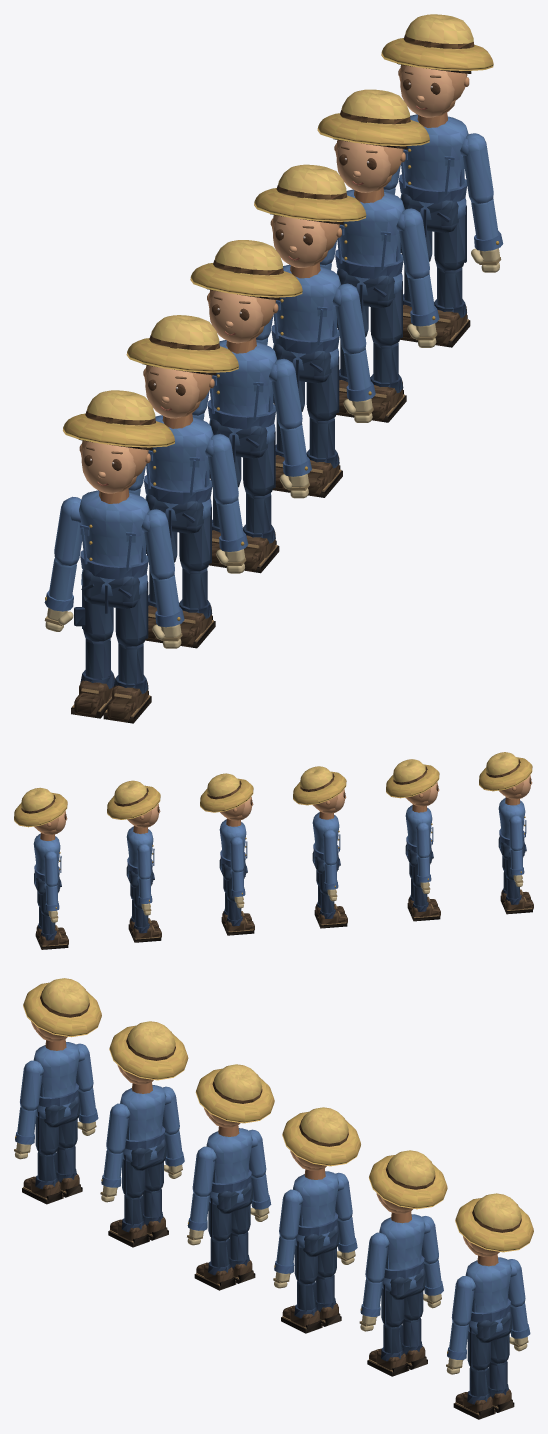
The model's file is ba-idle-side-after.glb.
3 renders of one model, top to bottom at view 1: azimuth 30°, elevation 25°; view 2: azimuth 150°, elevation 25°; view 3: azimuth 270°, elevation 25°, orthographic. The views are drawn at different scales.
Visible parts, largest first — view 1: denimJacketTorso (×6), strawHat (×6), head (×6), leftShin (×6), leftUpperArm (×6), leftThigh (×6), trouserHips (×6), leftLowerArm (×6), rightShin, rightUpperArm, rightThigh, rightLowerArm; view 2: strawHat (×6), denimJacketTorso (×6), rightShin (×6), rightUpperArm (×6), head (×6), rightLowerArm (×6); view 3: strawHat (×6), denimJacketTorso (×6), leftShin (×6), rightShin (×6), leftUpperArm (×6), leftThigh (×6), trouserHips (×6), rightUpperArm (×6), leftLowerArm (×6), rightLowerArm (×6).
Boxes of the visible parts, bbox=[...] form: denimJacketTorso (×6): bbox=[79, 112, 468, 595]; strawHat (×6): bbox=[63, 14, 493, 447]; head (×6): bbox=[79, 63, 471, 493]; leftShin (×6): bbox=[103, 267, 470, 723]; leftUpperArm (×6): bbox=[141, 133, 493, 579]; leftThigh (×6): bbox=[115, 205, 466, 646]; trouserHips (×6): bbox=[81, 193, 458, 613]; leftLowerArm (×6): bbox=[152, 198, 503, 627]; rightShin: bbox=[71, 638, 114, 718]; rightUpperArm: bbox=[54, 496, 82, 565]; rightThigh: bbox=[74, 586, 113, 641]; rightLowerArm: bbox=[44, 558, 76, 611]; strawHat (×6): bbox=[14, 752, 532, 827]; denimJacketTorso (×6): bbox=[33, 797, 526, 890]; rightShin (×6): bbox=[38, 878, 533, 949]; rightUpperArm (×6): bbox=[44, 815, 523, 886]; head (×6): bbox=[34, 775, 532, 835]; rightLowerArm (×6): bbox=[45, 849, 524, 911]; strawHat (×6): bbox=[23, 978, 533, 1252]; denimJacketTorso (×6): bbox=[33, 1039, 511, 1334]; leftShin (×6): bbox=[22, 1152, 495, 1419]; rightShin (×6): bbox=[56, 1145, 514, 1412]; leftUpperArm (×6): bbox=[20, 1060, 475, 1325]; leftThigh (×6): bbox=[35, 1111, 490, 1370]; trouserHips (×6): bbox=[44, 1096, 511, 1342]; rightUpperArm (×6): bbox=[76, 1043, 525, 1307]; leftLowerArm (×6): bbox=[15, 1107, 468, 1359]; rightLowerArm (×6): bbox=[78, 1087, 530, 1338].
Size of what is drawn, in the model's own units: 5.99 by 2.41 by 5.25.
